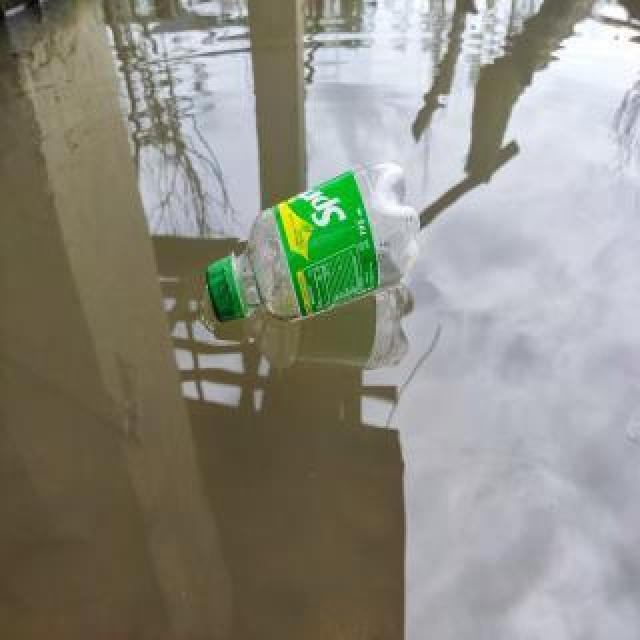bottle: (203, 155, 425, 327)
